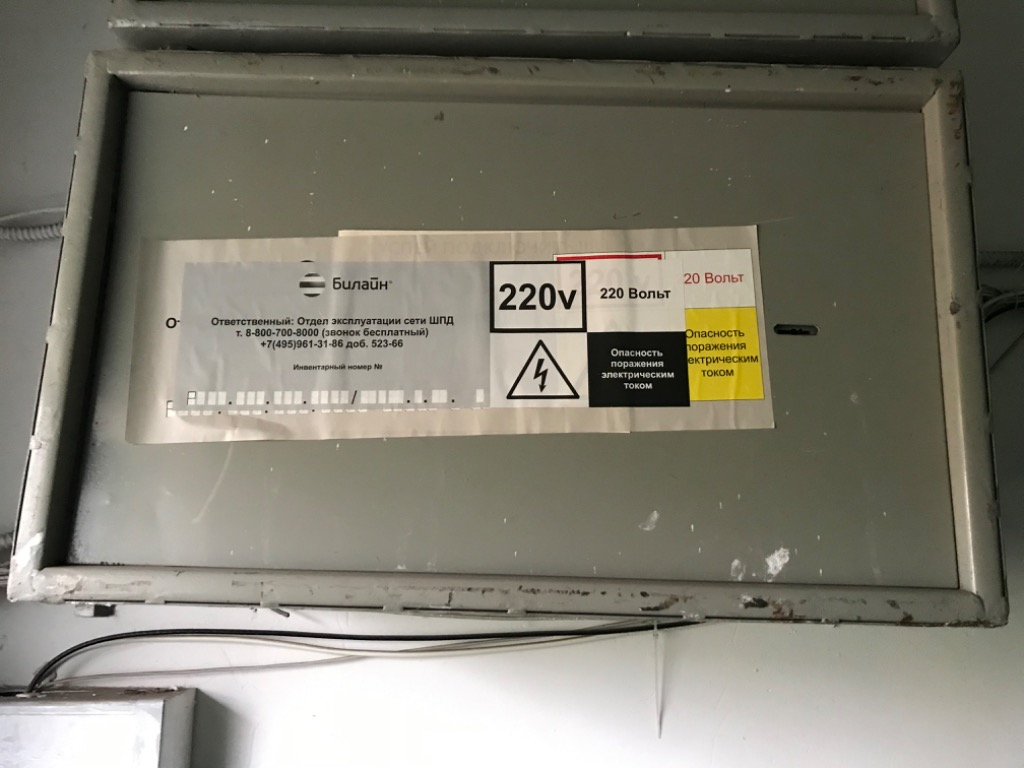e2-6u: (9, 40, 1009, 625)
